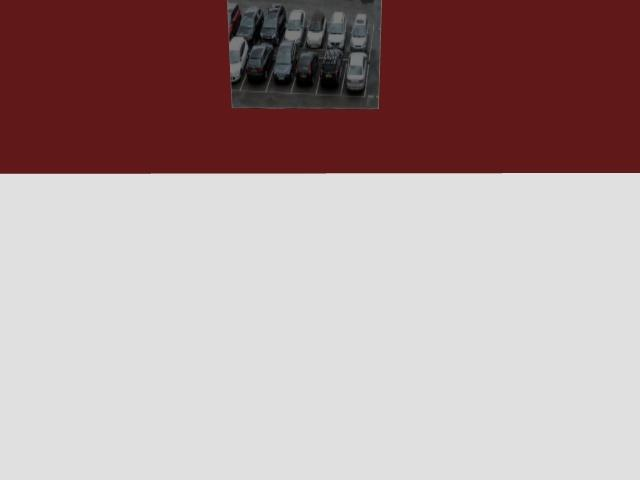vehicle: (236, 6, 263, 45), (245, 43, 273, 80), (260, 4, 285, 45), (273, 41, 297, 82), (229, 36, 248, 82), (320, 48, 342, 85), (346, 52, 367, 90), (284, 10, 305, 45), (296, 51, 318, 84), (327, 12, 346, 49), (350, 13, 368, 51), (306, 12, 325, 47), (227, 3, 241, 38)
